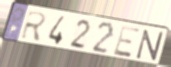2: (89, 20, 118, 56), (68, 19, 92, 52)
4: (47, 14, 67, 46)
E: (112, 24, 142, 60)
N: (135, 29, 165, 63)
R: (19, 9, 49, 43)
